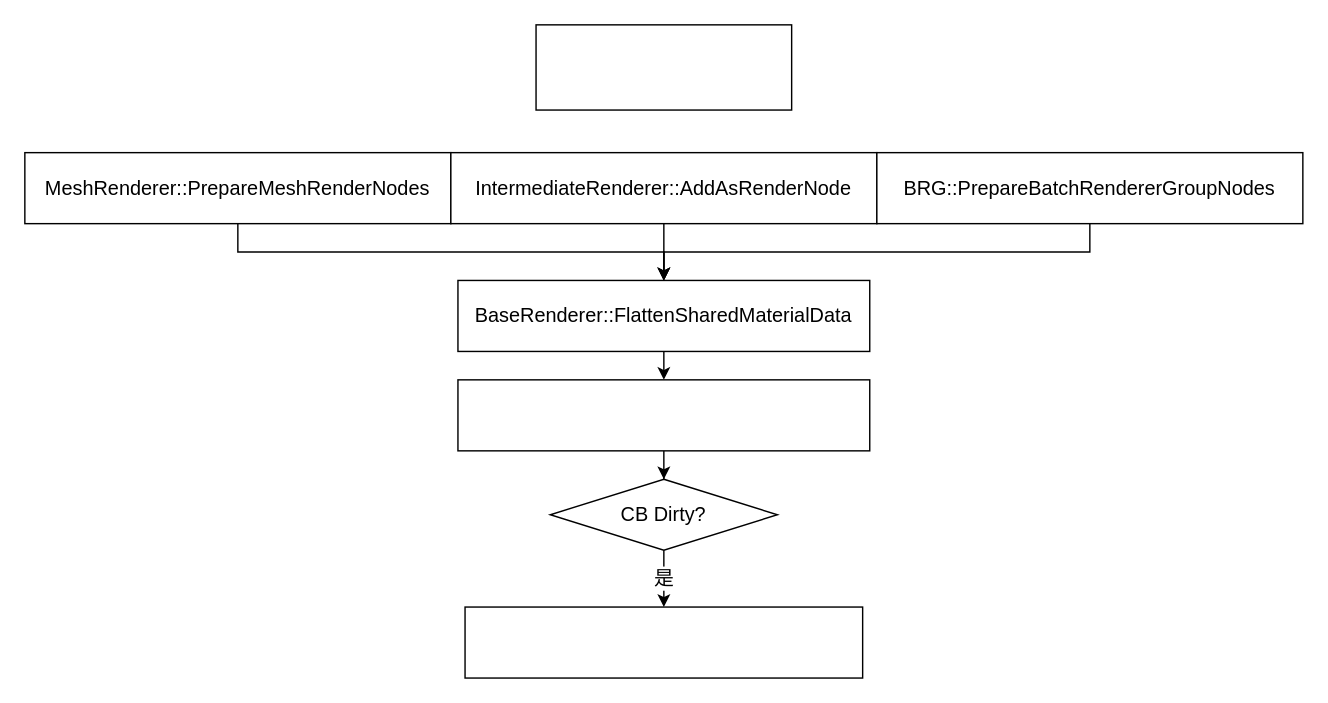
Image size: 1328x703. Some labels were removed from this diagram. Each missing label, with the centre of its shape:
"Material::AcquireSharedMaterialData" goes at [663,414].
"PerMaterialCB调用堆栈" goes at [663,66].
"SharedMaterialData::UpdatePerMaterialCB" goes at [663,642].
